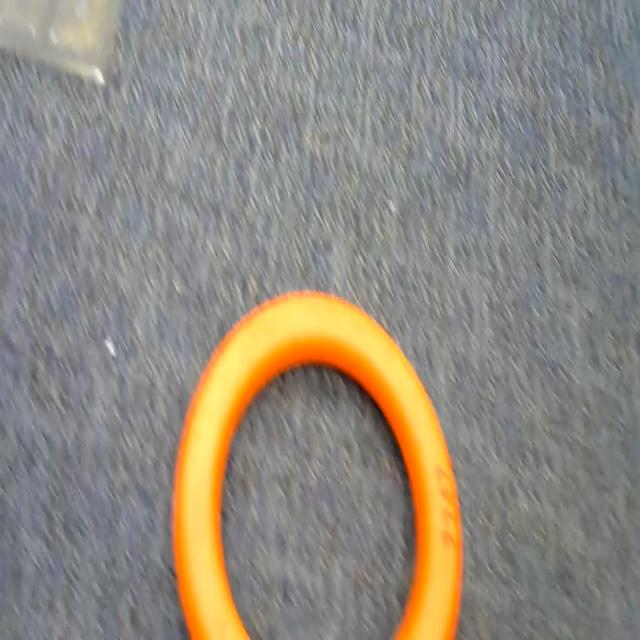note: (162, 287, 502, 640)
